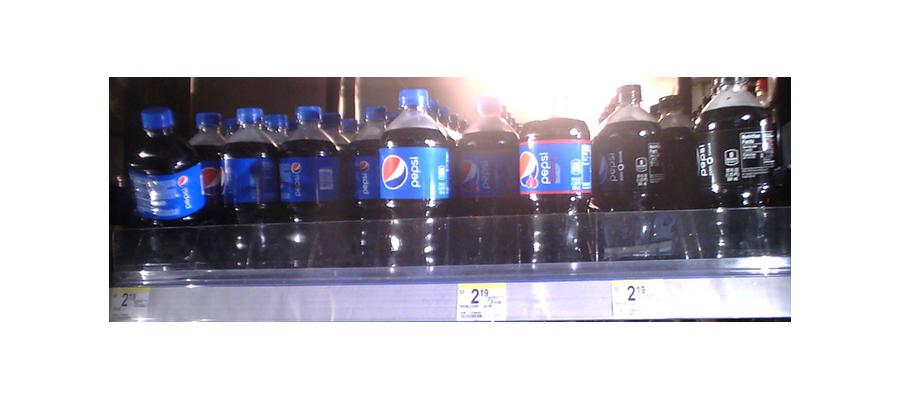bottle: (698, 77, 779, 262), (377, 89, 448, 270), (125, 108, 200, 271), (594, 80, 661, 262), (454, 93, 519, 266), (520, 111, 593, 263), (282, 101, 344, 264), (217, 104, 279, 264)
